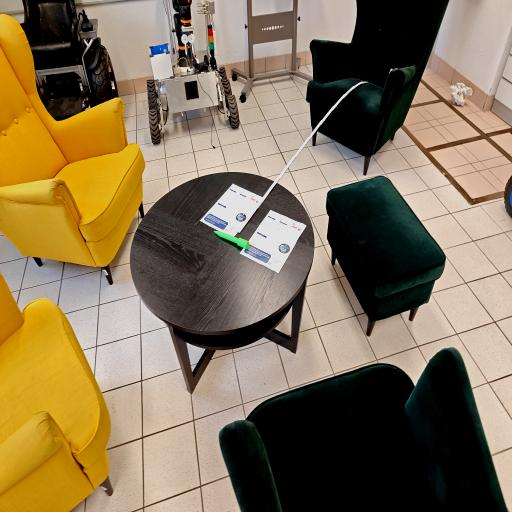Probe-Detection: (214, 231, 249, 249)
